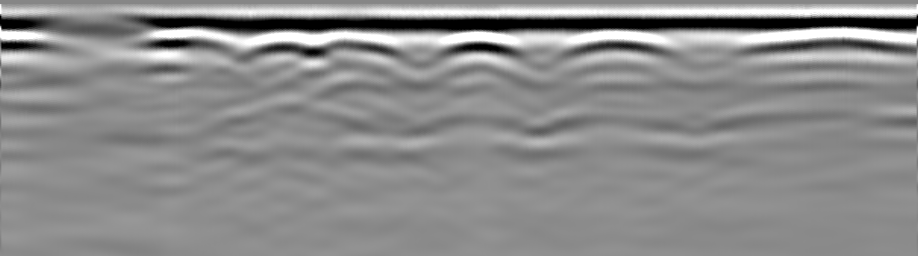pipe: (41, 14, 159, 38)
steel: (245, 32, 401, 61), (745, 31, 918, 54), (567, 32, 671, 60), (432, 32, 523, 58), (147, 31, 236, 54)
